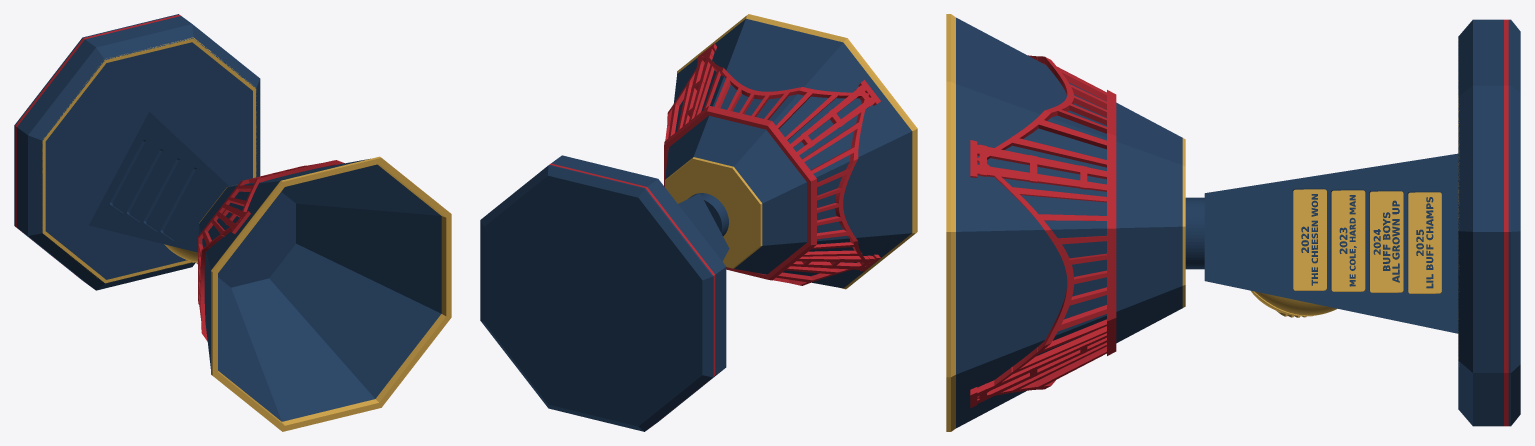
The model's file is trophy.glb.
The picture shows the model from 3 angles, left to right: view 1: azimuth 30°, elevation 25°; view 2: azimuth 150°, elevation 25°; view 3: azimuth 270°, elevation 25°; orthographic projection. The views are drawn at different scales.
Parts seen in each view (by area): view 1: 01-pedestal__navy, 02-cup__navy, 02-cup__gold, 03-bridge__red, 01-pedestal__gold, 01-pedestal__red; view 2: 01-pedestal__navy, 02-cup__navy, 03-bridge__red, 02-cup__gold, 01-pedestal__red; view 3: 02-cup__navy, 01-pedestal__navy, 03-bridge__red, 02-cup__gold, 06-winner-2023__gold, 06-winner-2025__gold, 06-winner-2022__gold, 06-winner-2024__gold, 01-pedestal__red, 04-front__gold, 06-winner-2024__navy, 06-winner-2025__navy (+2 smaller).
Boxes of the visible parts, x1,y1,x2,y2 form: 01-pedestal__navy: (14, 14, 260, 290); 02-cup__navy: (199, 158, 441, 421); 02-cup__gold: (199, 156, 451, 431); 03-bridge__red: (198, 160, 344, 341); 01-pedestal__gold: (42, 37, 256, 283); 01-pedestal__red: (15, 14, 180, 279); 01-pedestal__navy: (480, 155, 729, 431); 02-cup__navy: (665, 18, 912, 288); 03-bridge__red: (664, 43, 880, 285); 02-cup__gold: (665, 14, 917, 289); 01-pedestal__red: (549, 163, 715, 427); 02-cup__navy: (956, 17, 1204, 428); 01-pedestal__navy: (1204, 19, 1520, 426); 03-bridge__red: (970, 55, 1116, 408); 02-cup__gold: (946, 14, 1185, 431); 06-winner-2023__gold: (1331, 190, 1365, 291); 06-winner-2025__gold: (1408, 192, 1441, 293); 06-winner-2022__gold: (1293, 189, 1326, 290); 06-winner-2024__gold: (1370, 191, 1403, 292); 01-pedestal__red: (1504, 19, 1508, 426); 04-front__gold: (1251, 291, 1337, 317); 06-winner-2024__navy: (1373, 200, 1399, 282); 06-winner-2025__navy: (1416, 197, 1433, 288).
Size of the model in its own units: 120 by 120 by 178.
